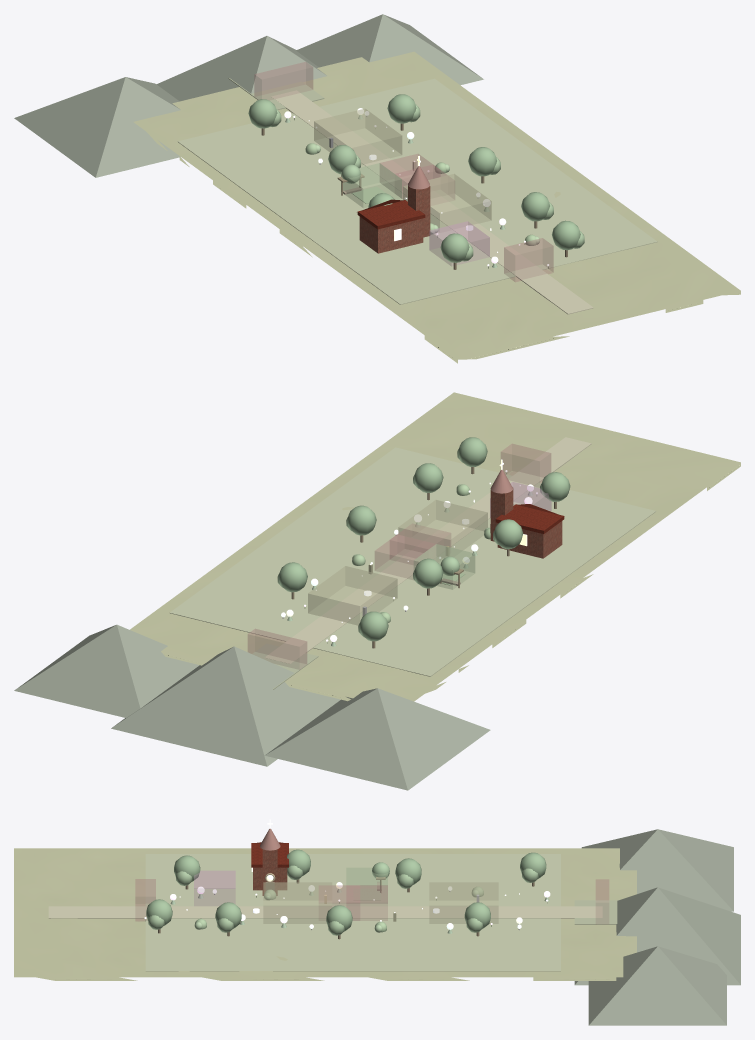
File: enchanted_ground.glb
3 views of the same model, one above another, from view 1: azimuth 30°, elevation 25°; view 2: azimuth 150°, elevation 25°; view 3: azimuth 270°, elevation 25° (orthographic). The views are drawn at different scales.
Visible parts, largest first — view 1: ENV_Enchanted_SoftField, ENV_Enchanted_Ground, VIS_PROP_Ridge_DreamWood (×3), ENV_Enchanted_MainPath, VIS_PROP_Chapel (×3), COL_SleepZone_02, COL_SleepZone_01, TRIGGER_EnterEnchantedGround, TRIGGER_Exit_RiverOfDeath, COL_SoftGrassRestZone, COL_DreamFlowerZone, TRIGGER_TestimonyConversation (+9 smaller); view 2: ENV_Enchanted_SoftField, VIS_PROP_Ridge_DreamWood (×3), ENV_Enchanted_Ground, ENV_Enchanted_MainPath, COL_SleepZone_02, COL_SleepZone_01, VIS_PROP_Chapel (×3), TRIGGER_Exit_RiverOfDeath, TRIGGER_TestimonyConversation, TRIGGER_EnterEnchantedGround, TRIGGER_HopefulWake, COL_SoftGrassRestZone (+10 smaller); view 3: ENV_Enchanted_SoftField, ENV_Enchanted_Ground, VIS_PROP_Ridge_DreamWood (×3), ENV_Enchanted_MainPath, COL_SleepZone_01, COL_SleepZone_02, VIS_PROP_Chapel (×3), COL_DreamFlowerZone, TRIGGER_TestimonyConversation, COL_SoftGrassRestZone, TRIGGER_HopefulWake, ENV_Enchanted_ExitSlope (+10 smaller).
Part boxes in pixels (<box>): ENV_Enchanted_SoftField: <box>177,78,657,304</box>; ENV_Enchanted_Ground: <box>133,51,740,363</box>; VIS_PROP_Ridge_DreamWood (×3): <box>14,14,483,177</box>; ENV_Enchanted_MainPath: <box>271,90,593,314</box>; VIS_PROP_Chapel (×3): <box>357,183,430,253</box>; COL_SleepZone_02: <box>314,108,402,164</box>; COL_SleepZone_01: <box>403,174,491,232</box>; TRIGGER_EnterEnchantedGround: <box>504,238,553,281</box>; TRIGGER_Exit_RiverOfDeath: <box>254,62,312,99</box>; COL_SoftGrassRestZone: <box>341,163,401,207</box>; COL_DreamFlowerZone: <box>429,221,489,266</box>; TRIGGER_TestimonyConversation: <box>380,154,440,198</box>; ENV_Enchanted_SoftField: <box>170,447,656,676</box>; VIS_PROP_Ridge_DreamWood (×3): <box>14,624,490,790</box>; ENV_Enchanted_Ground: <box>130,392,740,701</box>; ENV_Enchanted_MainPath: <box>265,437,591,663</box>; COL_SleepZone_02: <box>308,566,397,625</box>; COL_SleepZone_01: <box>398,500,487,552</box>; VIS_PROP_Chapel (×3): <box>490,488,564,558</box>; TRIGGER_Exit_RiverOfDeath: <box>248,629,306,669</box>; TRIGGER_TestimonyConversation: <box>375,534,435,579</box>; TRIGGER_EnterEnchantedGround: <box>501,444,550,487</box>; TRIGGER_HopefulWake: <box>390,524,450,564</box>; COL_SoftGrassRestZone: <box>413,544,475,589</box>; ENV_Enchanted_SoftField: <box>145,854,560,971</box>; ENV_Enchanted_Ground: <box>14,848,636,980</box>; VIS_PROP_Ridge_DreamWood (×3): <box>574,829,740,1025</box>; ENV_Enchanted_MainPath: <box>48,906,602,918</box>; COL_SleepZone_01: <box>263,882,332,923</box>; COL_SleepZone_02: <box>429,882,498,923</box>; VIS_PROP_Chapel (×3): <box>251,843,288,895</box>; COL_DreamFlowerZone: <box>194,870,235,905</box>; TRIGGER_TestimonyConversation: <box>346,885,387,920</box>; COL_SoftGrassRestZone: <box>346,867,387,903</box>; TRIGGER_HopefulWake: <box>319,885,359,920</box>; ENV_Enchanted_ExitSlope: <box>574,900,617,924</box>.
Size of the model in its own units: 61 by 16.75 by 105.
Materials: 49 (2 with a texture image).
